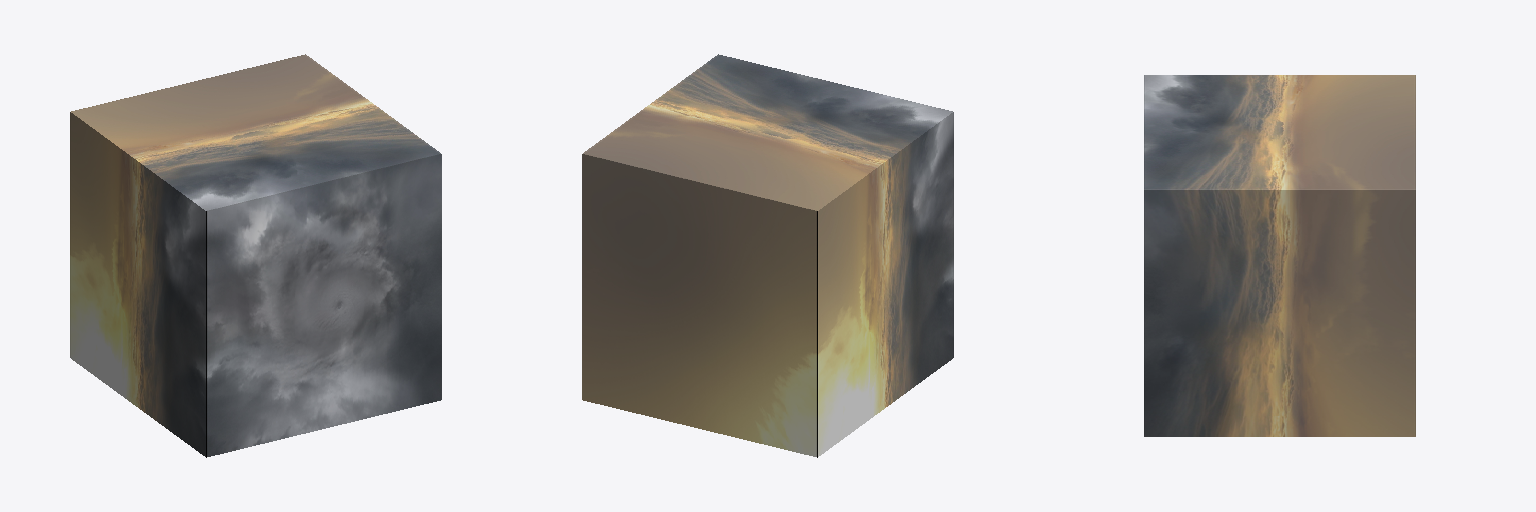
The picture shows the model from 3 angles: view 1: azimuth 30°, elevation 25°; view 2: azimuth 150°, elevation 25°; view 3: azimuth 270°, elevation 25°; orthographic projection.
Parts seen in each view (by area): view 1: Box01; view 2: Box01; view 3: Box01.
Boxes of the visible parts, x1,y1,x2,y2 form: Box01: [70, 54, 441, 457]; Box01: [582, 54, 953, 457]; Box01: [1144, 75, 1415, 436].
Bounding box in the file's own units: 39.37 × 39.37 × 39.37.
Materials: 1 (1 with a texture image).